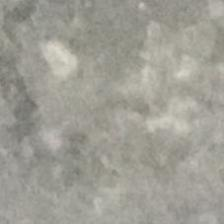Non_Crack: (42, 4, 224, 220)
